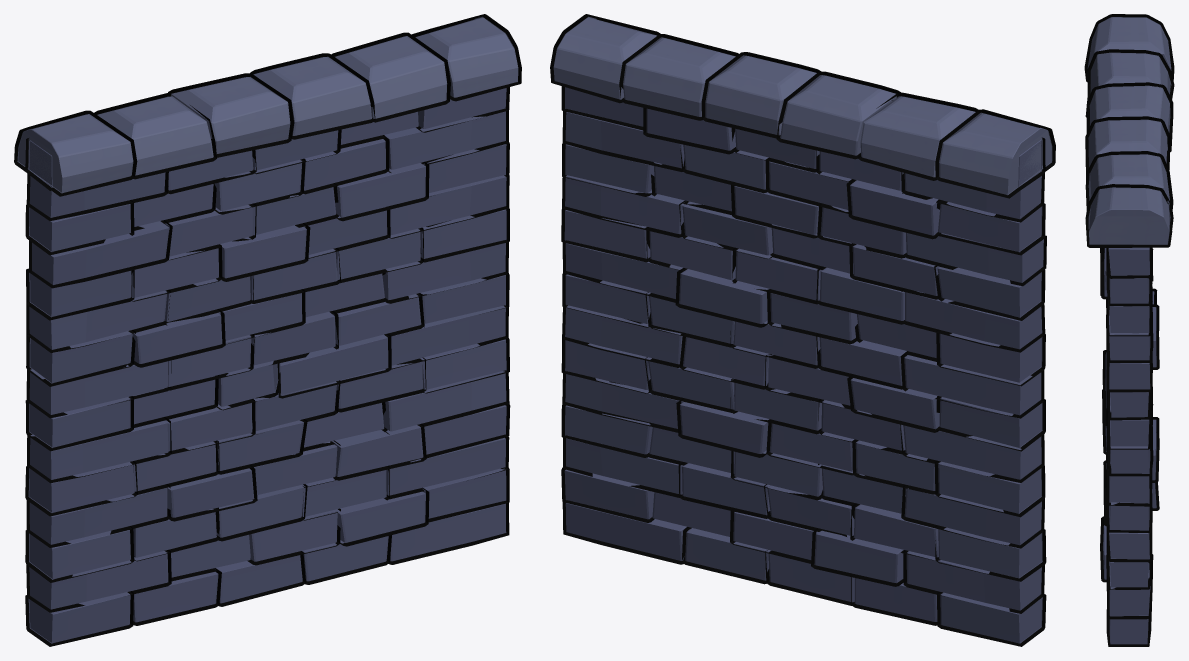
Rendered from Stone_Wall_2.fbx.
The picture shows the model from 3 angles, left to right: view 1: azimuth 30°, elevation 25°; view 2: azimuth 150°, elevation 25°; view 3: azimuth 270°, elevation 25°; orthographic projection. The views are drawn at different scales.
Visible parts, largest first — view 1: Stone_Wall; view 2: Stone_Wall; view 3: Stone_Wall.
Boxes of the visible parts, x1,y1,x2,y2 form: Stone_Wall: (14,14,521,646); Stone_Wall: (550,14,1055,646); Stone_Wall: (1084,14,1174,646).
Size of the model in its own units: 442 by 466 by 86.26.
